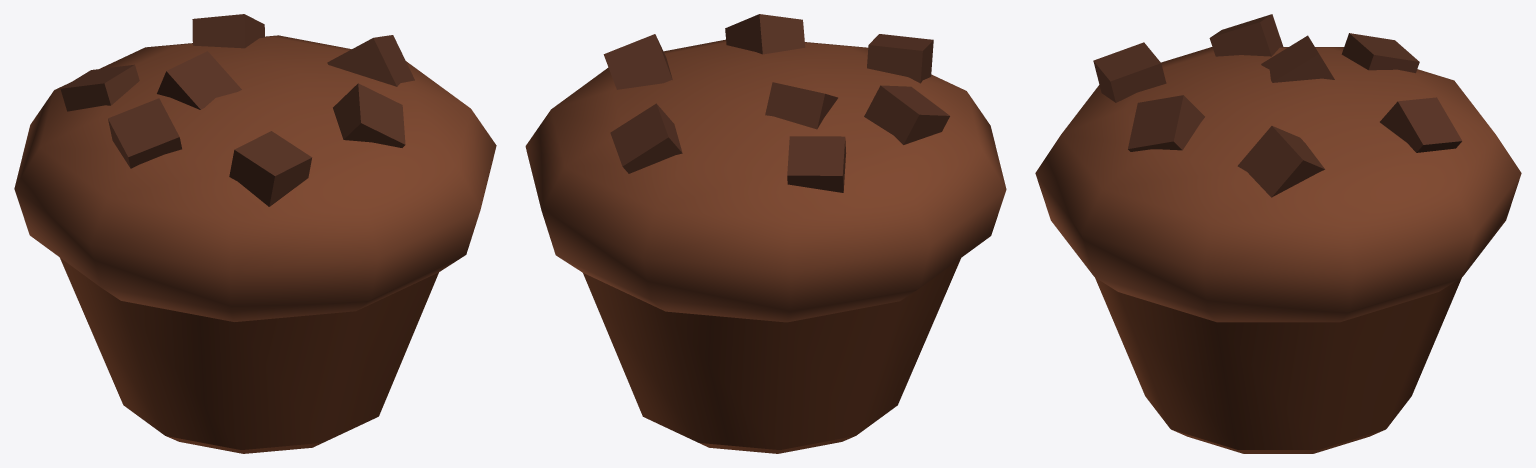
The model's file is Muffin_02.fbx.
3 views of the same model, side by side, from view 1: azimuth 30°, elevation 25°; view 2: azimuth 150°, elevation 25°; view 3: azimuth 270°, elevation 25° (orthographic).
Visible parts, largest first — view 1: Muffin_02; view 2: Muffin_02; view 3: Muffin_02.
Boxes of the visible parts, bbox=[...] form: Muffin_02: bbox=[14, 14, 496, 453]; Muffin_02: bbox=[525, 14, 1006, 453]; Muffin_02: bbox=[1035, 14, 1521, 453].
Bounding box in the file's own units: 0.0987 × 0.0805 × 0.1038.
